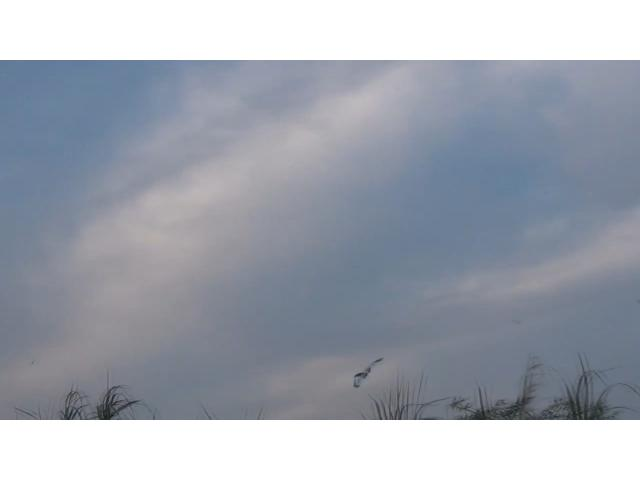Anti-Drone: (354, 360, 382, 388)
